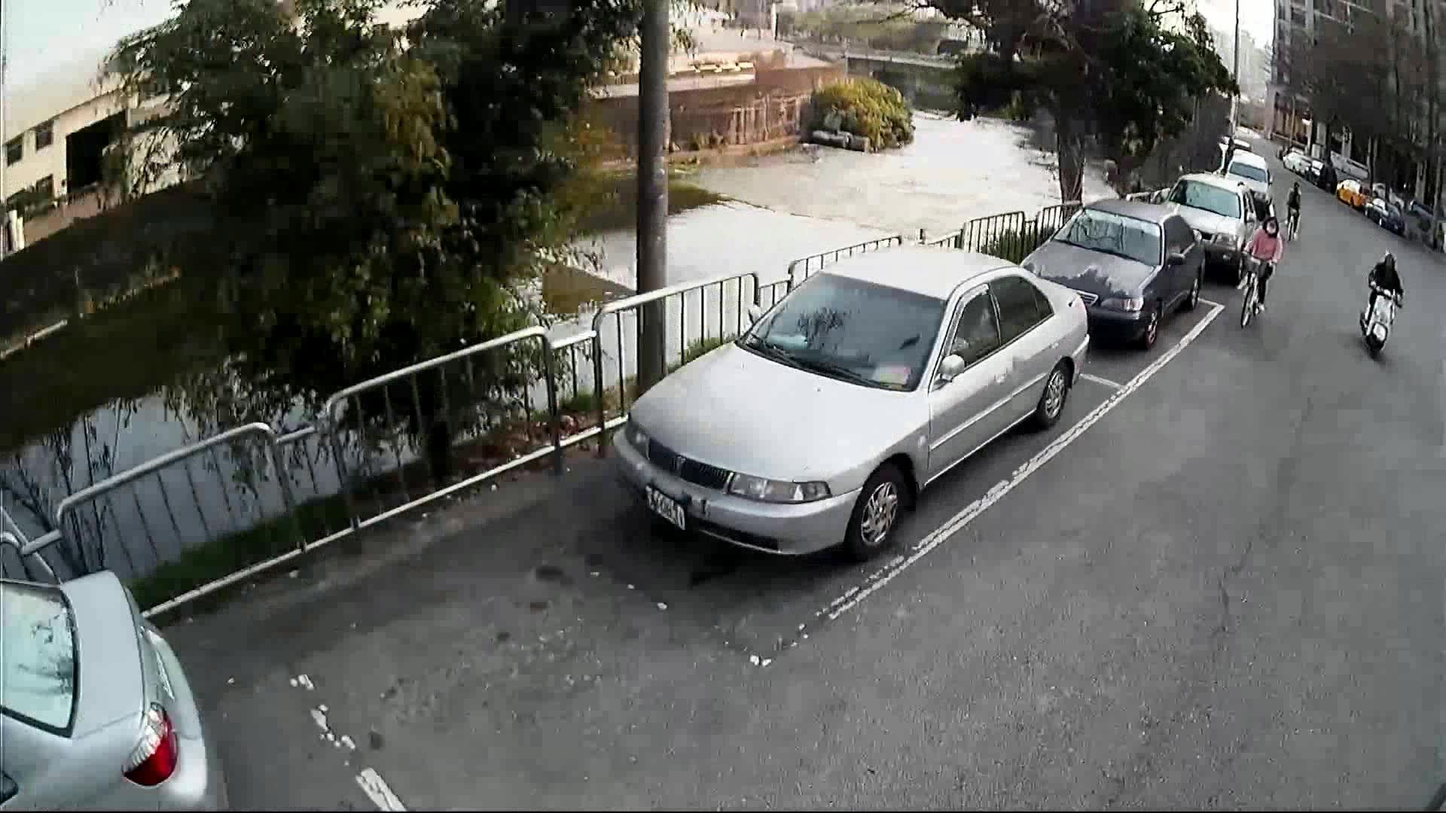person: (1231, 212, 1283, 315), (1359, 247, 1405, 327)
